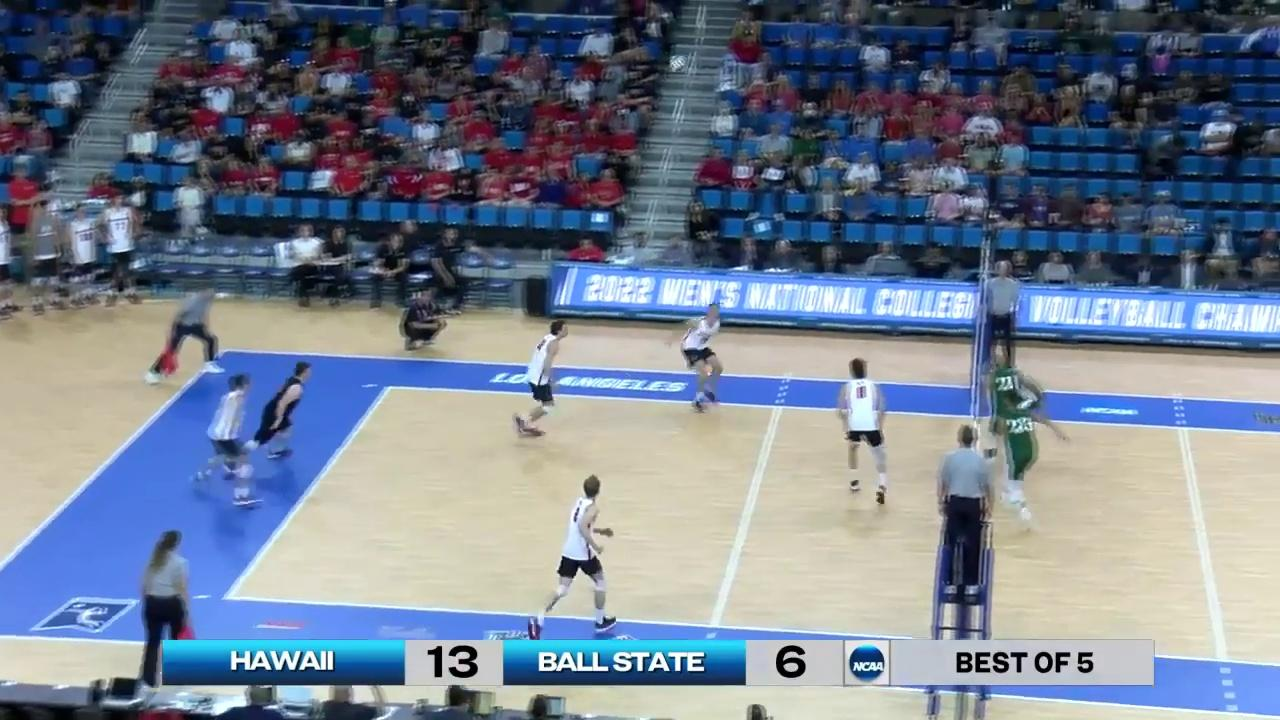player: (531, 478, 616, 634), (198, 375, 260, 511), (836, 359, 892, 503), (999, 390, 1054, 528), (239, 362, 310, 467), (985, 351, 1040, 468), (516, 318, 569, 436), (679, 304, 724, 412)
refree: (136, 535, 195, 690), (937, 425, 989, 596), (144, 285, 221, 385), (984, 262, 1020, 371)
